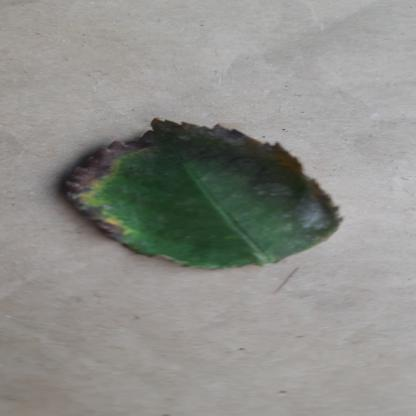black-spot: (61, 112, 356, 270)
